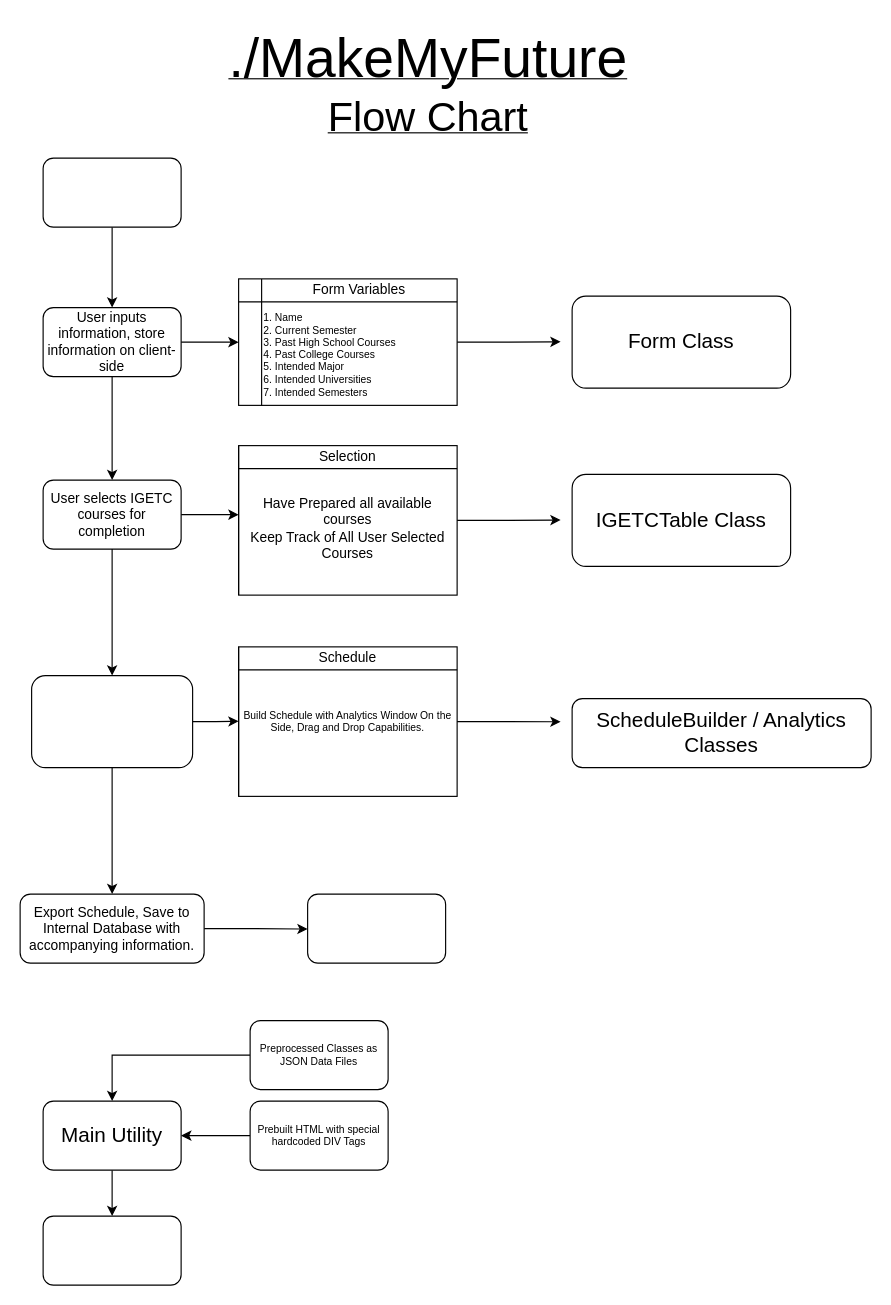
Image size: 891x1305. Some labels were removed from this diagram. The centre of each missing label's shape, as x and y in pixels:
"Builds All Class Instances with Div Names" belongs at (111,1250).
"Multiple Visual Builders of Choice" belongs at (376,928).
"On Page Load" belongs at (111,192).
"User uses selected courses to build schedule semester-by-semester" belongs at (111,721).
